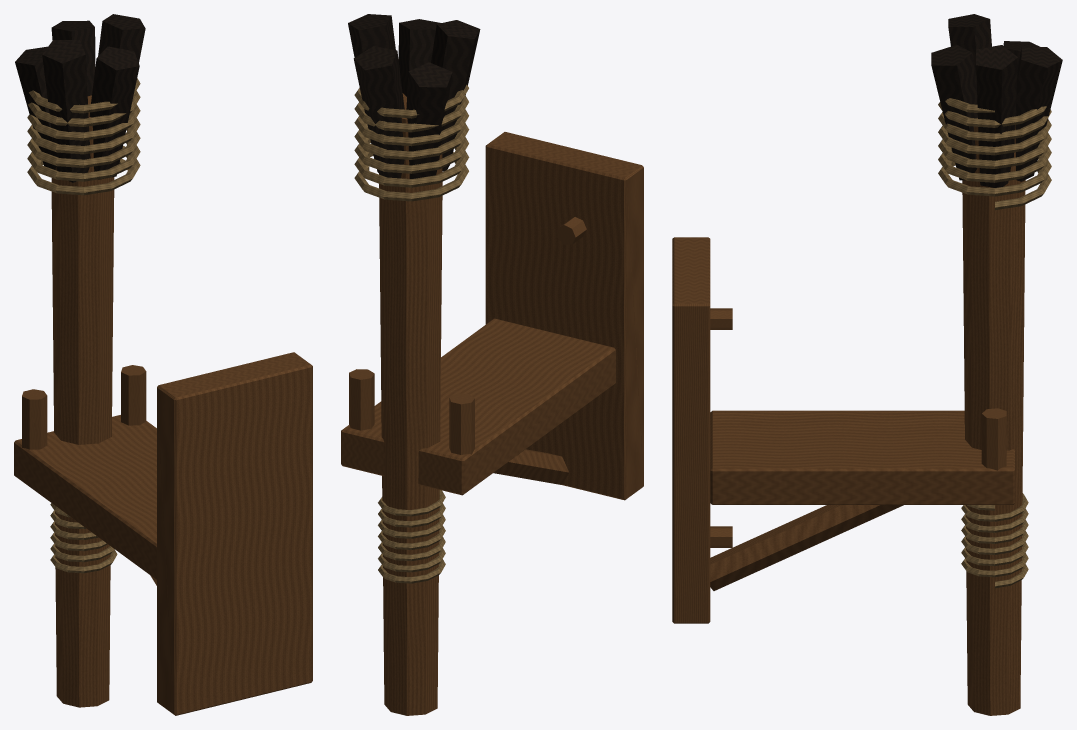
The model's file is MountedTorch.fbx.
The picture shows the model from 3 angles, left to right: view 1: azimuth 30°, elevation 25°; view 2: azimuth 150°, elevation 25°; view 3: azimuth 270°, elevation 25°; orthographic projection.
Visible parts, largest first — view 1: MountedTorch; view 2: MountedTorch; view 3: MountedTorch.
Boxes of the visible parts, x1,y1,x2,y2 form: MountedTorch: (14, 14, 312, 715); MountedTorch: (341, 14, 643, 715); MountedTorch: (672, 14, 1062, 715).
Bounding box in the file's own units: 0.16 × 0.7337 × 0.3873.
